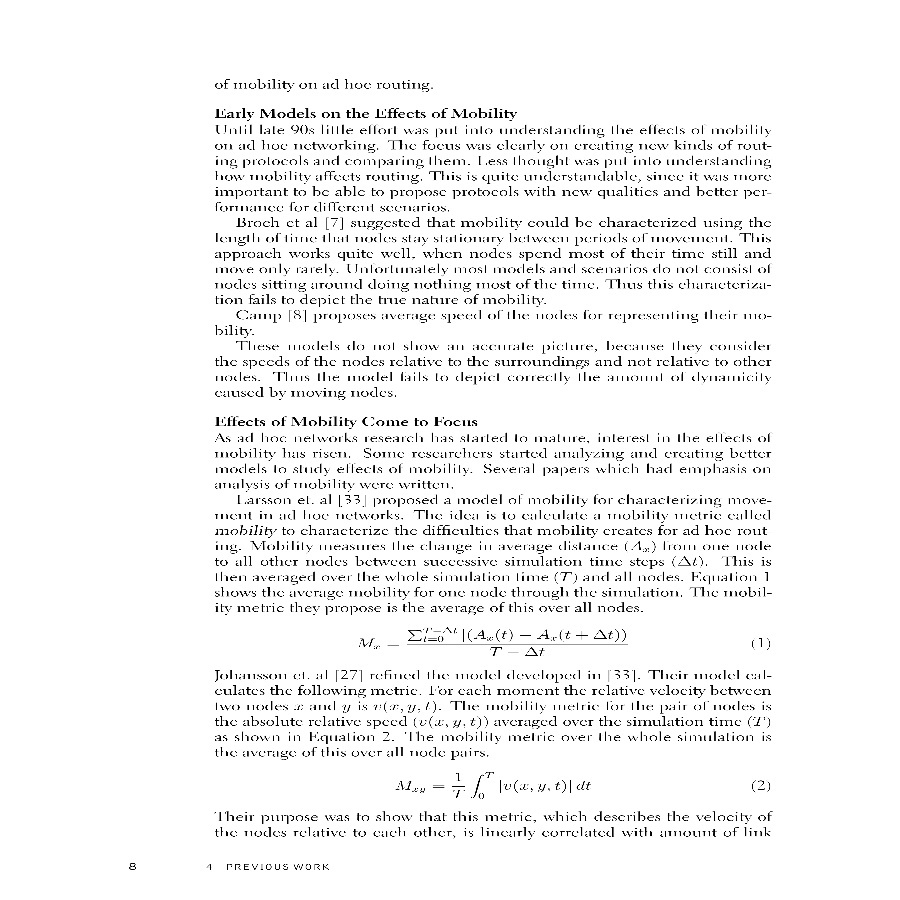eq: (349, 624, 632, 658), (395, 768, 597, 802)
